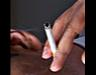Cigarette: (44, 22, 57, 57)
